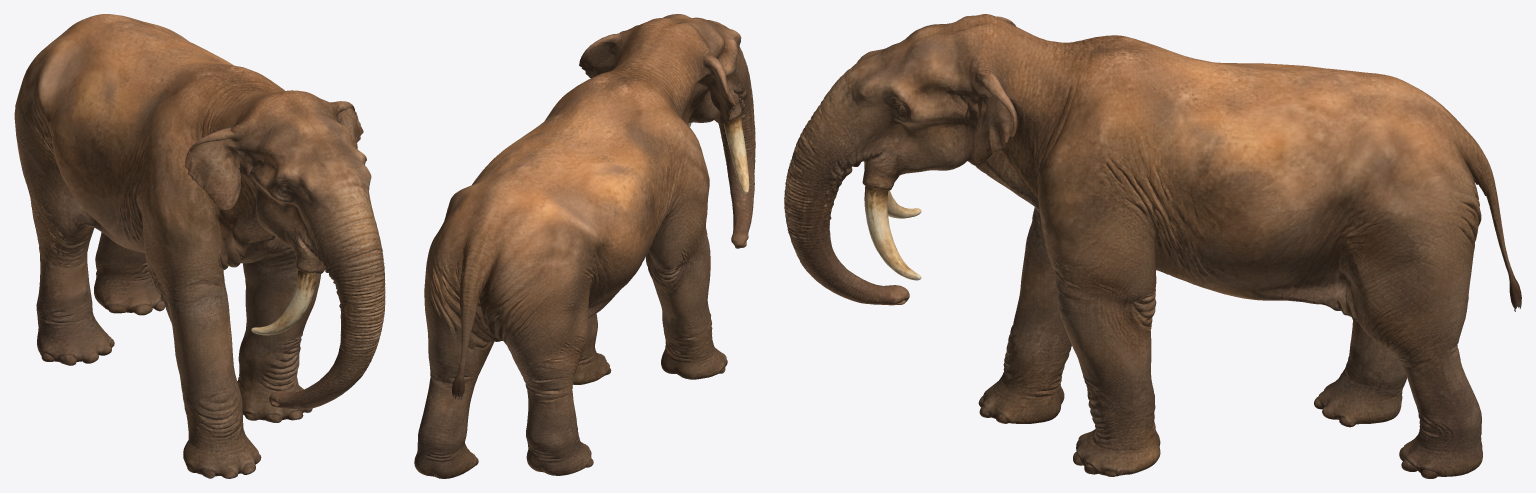
3 renders of one model, left to right at view 1: azimuth 30°, elevation 25°; view 2: azimuth 150°, elevation 25°; view 3: azimuth 270°, elevation 25°, orthographic. The views are drawn at different scales.
Visible parts, largest first — view 1: Authored orientation; view 2: Authored orientation; view 3: Authored orientation.
Part boxes in pixels (left/top/right/bottom): Authored orientation: left=14, top=14, right=385, bottom=478; Authored orientation: left=414, top=14, right=755, bottom=478; Authored orientation: left=784, top=14, right=1521, bottom=478.
Size of the model in its own units: 1.87 by 3.57 by 5.75.
1 material, 1 textured.
